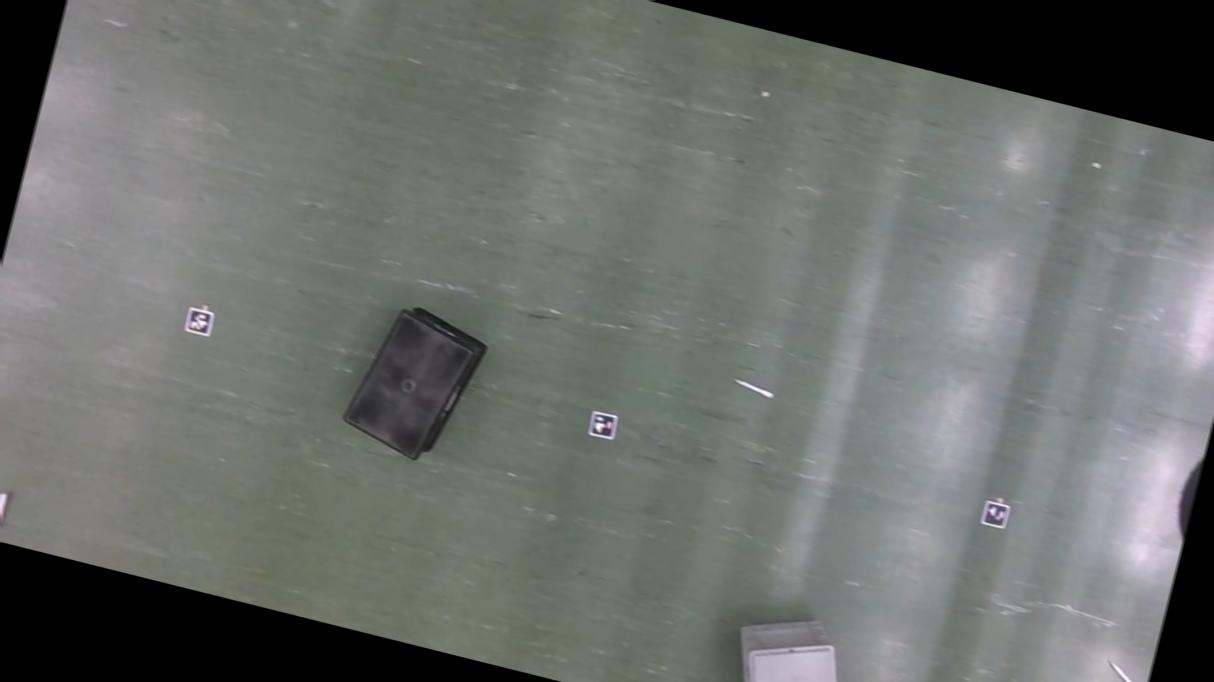probes: (1104, 659, 1146, 682), (734, 377, 774, 396), (0, 490, 8, 529)
rako: (336, 291, 494, 468), (714, 599, 870, 682)
